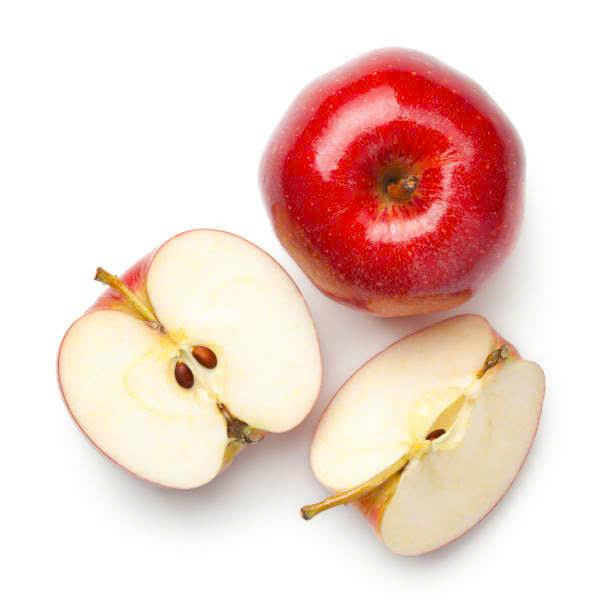apple: (260, 37, 547, 316), (50, 229, 326, 483), (320, 322, 552, 558)
